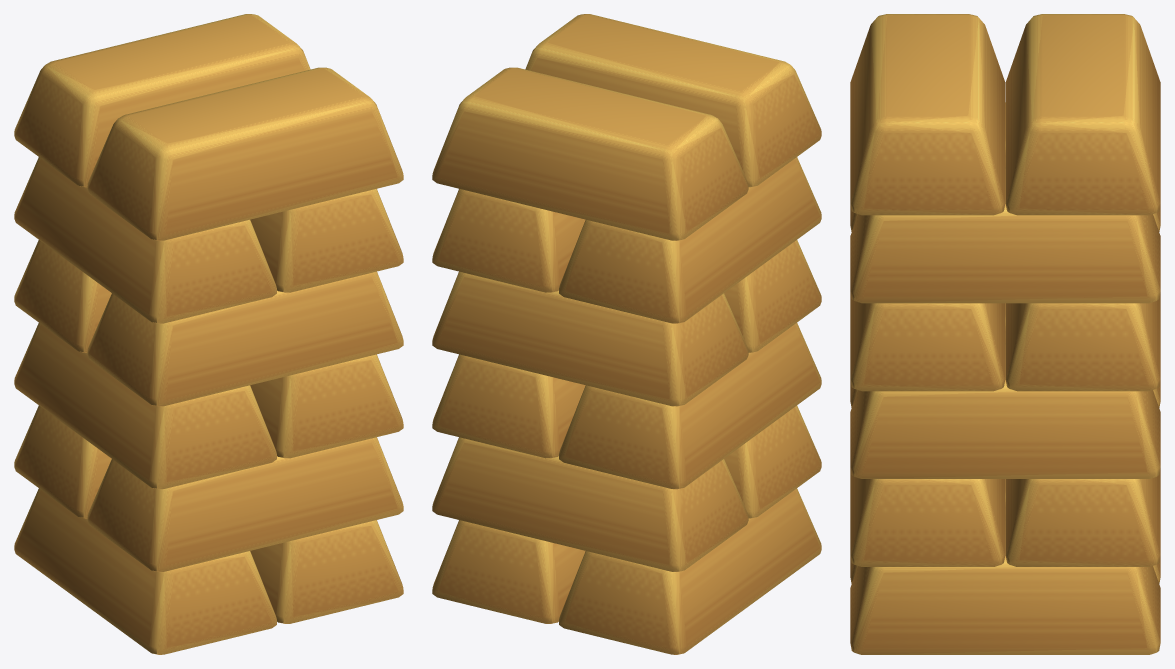
File: gold-bars-stack-medium.glb
The picture shows the model from 3 angles, left to right: view 1: azimuth 30°, elevation 25°; view 2: azimuth 150°, elevation 25°; view 3: azimuth 270°, elevation 25°; orthographic projection. The views are drawn at different scales.
Visible parts, largest first — view 1: Gold_Bars_Stack_Medium; view 2: Gold_Bars_Stack_Medium; view 3: Gold_Bars_Stack_Medium.
Boxes of the visible parts, box(x1,y1,x2,y2) form: Gold_Bars_Stack_Medium: box(14, 14, 403, 654); Gold_Bars_Stack_Medium: box(432, 14, 821, 654); Gold_Bars_Stack_Medium: box(850, 14, 1160, 654).
Size of the model in its own units: 0.8 by 1.5 by 0.8.
Materials: 1 (1 with a texture image).
